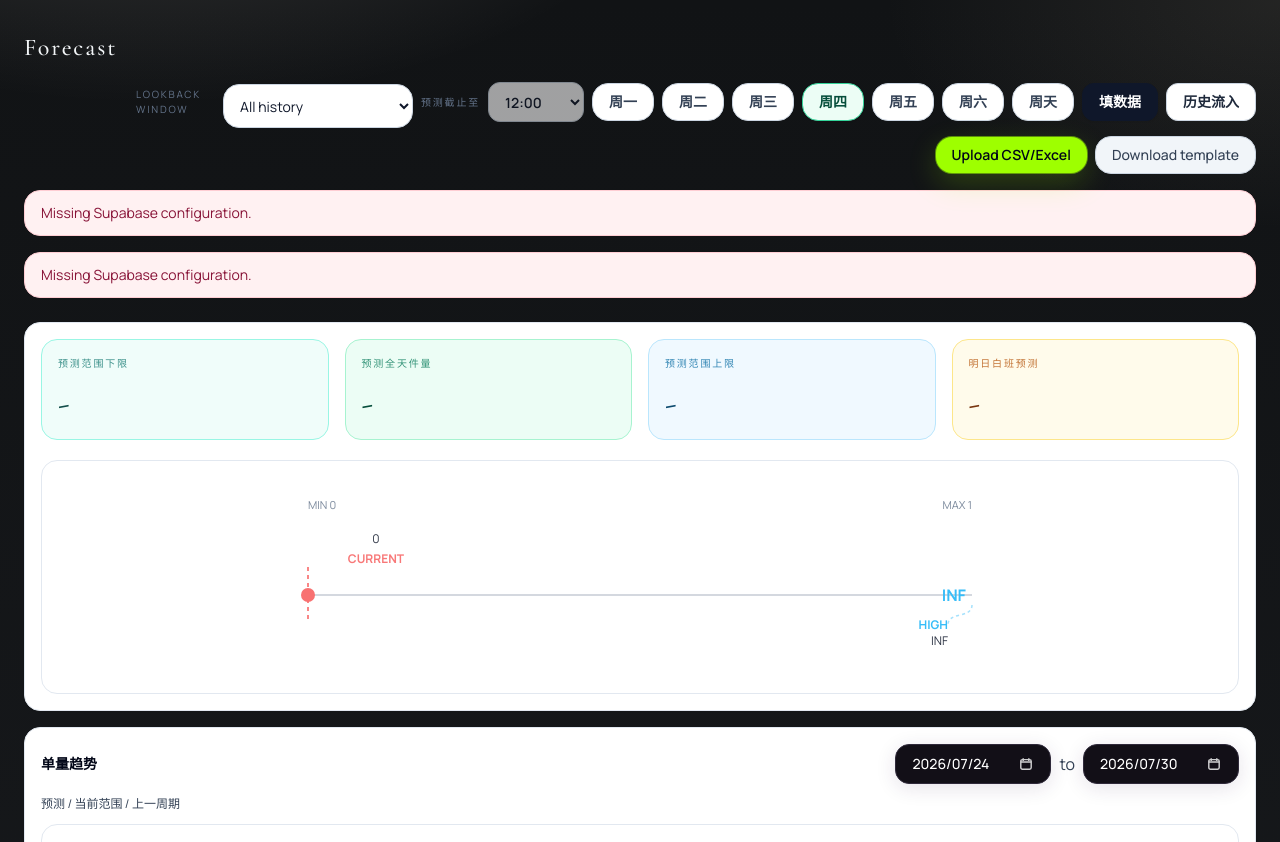
Scenario: ForecastPage outbound report import › shows report import beside the historical inflow title
The width and height of the screenshot is (1280, 842).
Click the button "历史流入".
click(1211, 102)  # box [1166,83,1256,121]
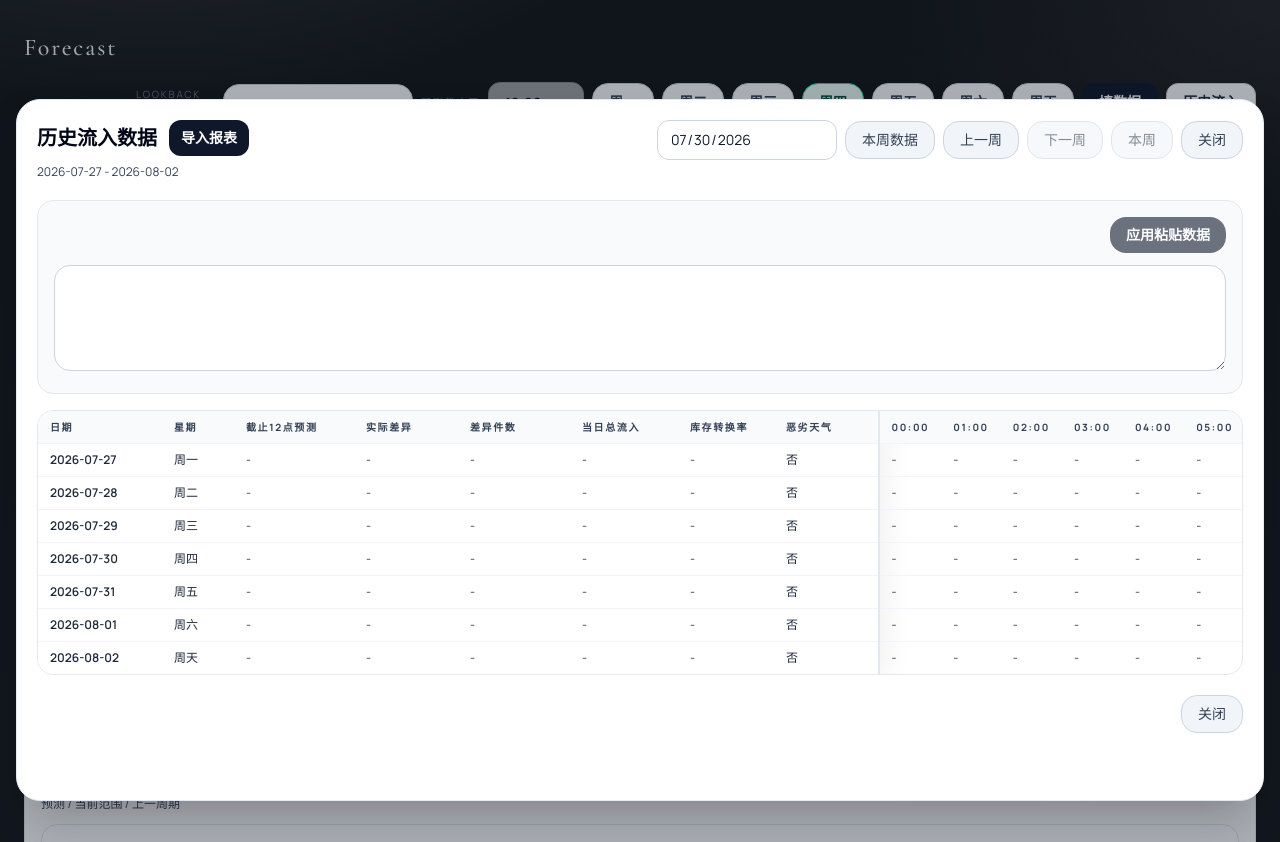
Now the text "历史流入数据" is shown, box [37,124,157,152]
Now the button "导入报表" is shown, box [169,120,249,156]
